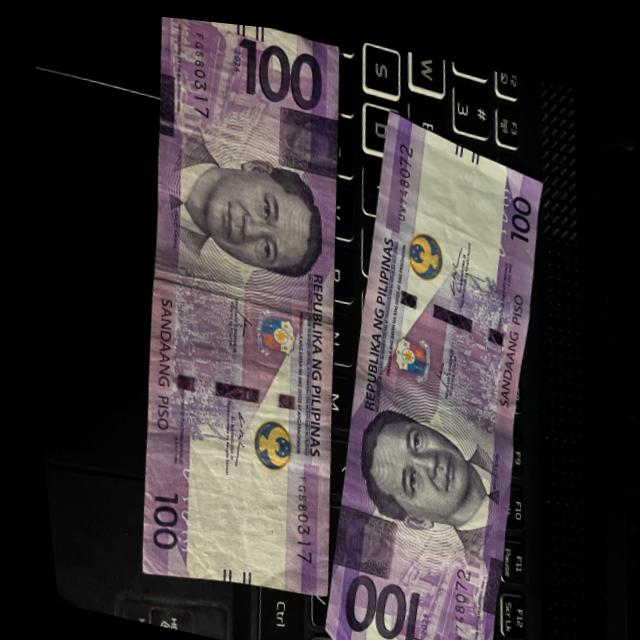concealed_value: (315, 495, 390, 576), (269, 98, 338, 171)
security_thread: (354, 269, 521, 344), (147, 350, 316, 420)
serial_number: (265, 462, 321, 567), (177, 14, 225, 120), (378, 131, 420, 230)
value: (317, 556, 431, 640), (227, 24, 332, 109)
watermark: (173, 441, 299, 572), (395, 136, 509, 276)
